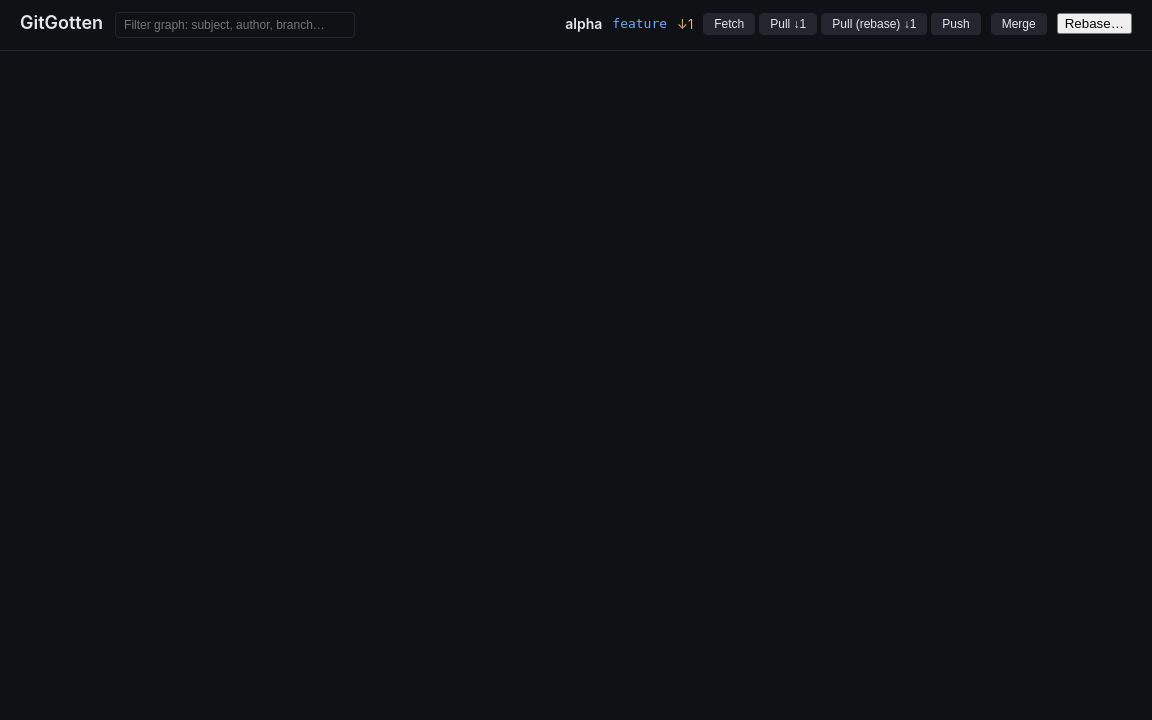
the dialog defaults onto the upstream and lists the range newest first
What coordinates should you click on to do the following:
click the button "Rebase…"
I would click on:
 (1094, 24)
Its box is [1057, 13, 1132, 34].
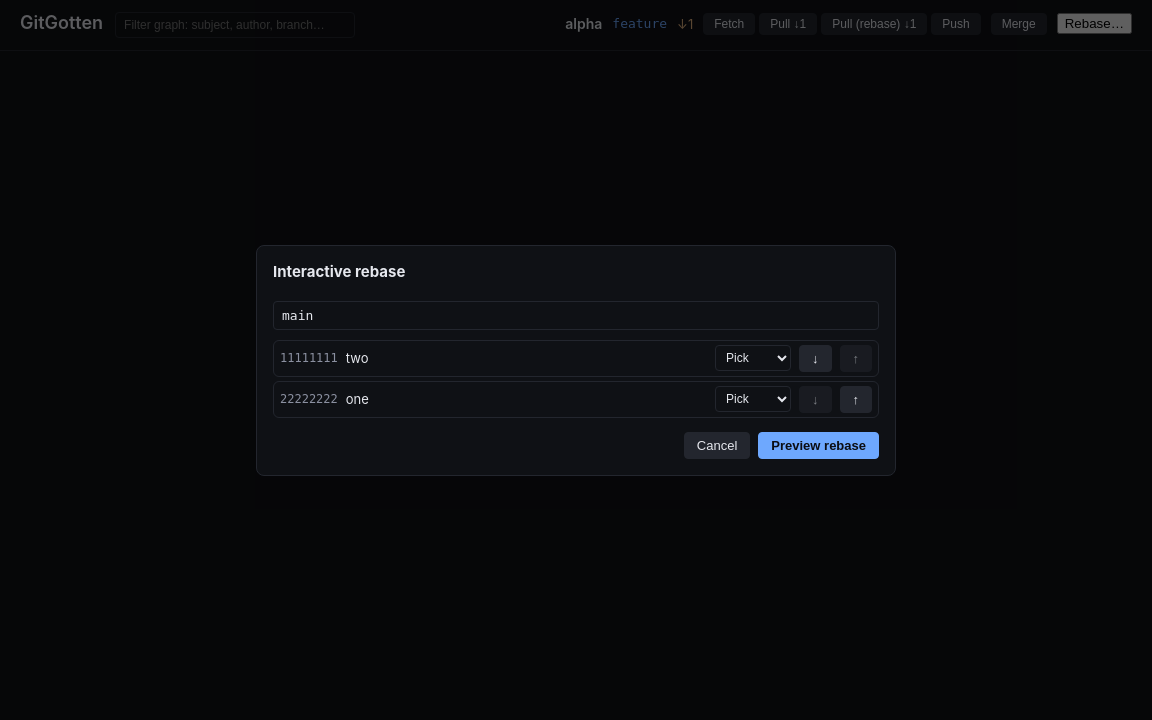
Check: the field named "Rebase target" holds "main", box [273, 300, 879, 330]
Check: the number of list items is 2, box [273, 340, 879, 376]; [273, 380, 879, 418]
Check: the list item "11111111 two ↓ ↑" is shown, box [273, 340, 879, 376]
